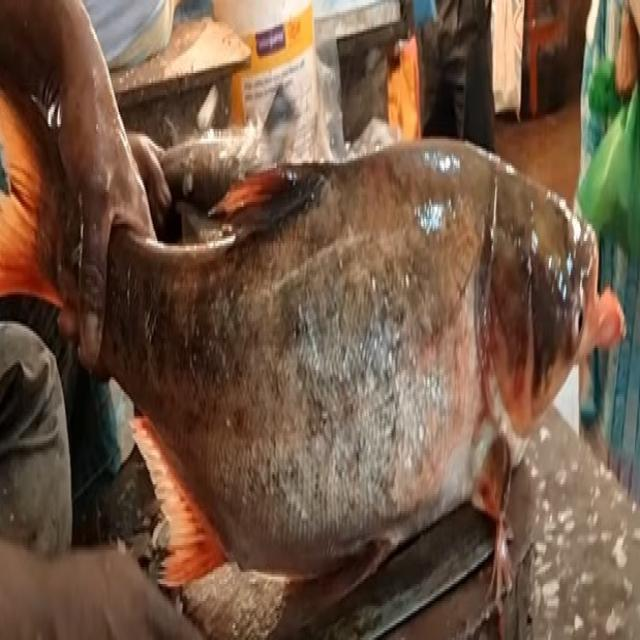Big-Head-Carp: (15, 46, 635, 623)
